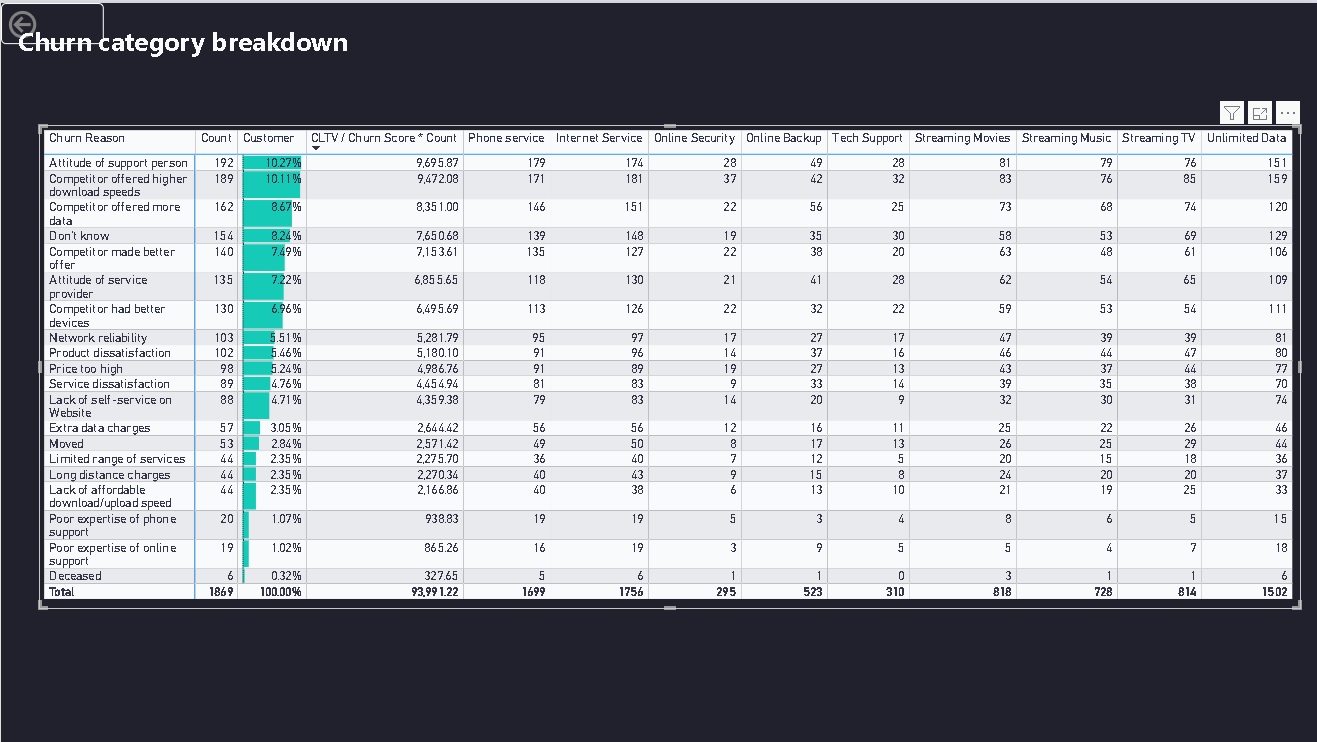

The page's visual inventory and layout, read from the dashboard file:
{"tool":"powerbi","page":{"name":"Churn category breakdown","canvas":[1280,720],"ordinal":3},"visuals":[{"type":"pivotTable","fields":{"Rows":["Telco_Churn.Churn Reason"],"Values":["Sum(Demographics.Count)","Divide(Sum(Demographics.Count), ScopedEval(Sum(Demographics.Count), []))","Telco_Churn.Measure 2","Sum(Services.Phone Service - Copy)","Sum(Services.Internet Service - Copy)","Sum(Services.Online Security - Copy)","Sum(Services.Online Backup - Copy)","Sum(Services.Premium Tech Support - Copy)","Sum(Services.Streaming Movies - Copy)","Sum(Services.Streaming Music - Copy)","Sum(Services.Streaming TV - Copy)","Sum(Services.Unlimited Data - Copy)"]},"box":[37.2,118.7,1227.5,203.7],"z":0},{"type":"actionButton","box":[0,0,100,40],"z":1000},{"type":"shape","box":[16.2,0,379.5,73.5],"z":2000}]}

Visuals, with their boxes on the page's 1280x720 design canvas (x1, y1, x2, y2). These are canvas units, not pixel positions in the 1317x742 screenshot, which may show the page scaled, cropped or inside an application window:
pivotTable - Telco_Churn.Churn Reason x Sum(Demographics.Count): 37,119,1265,322
actionButton: 0,0,100,40
shape: 16,0,396,74
